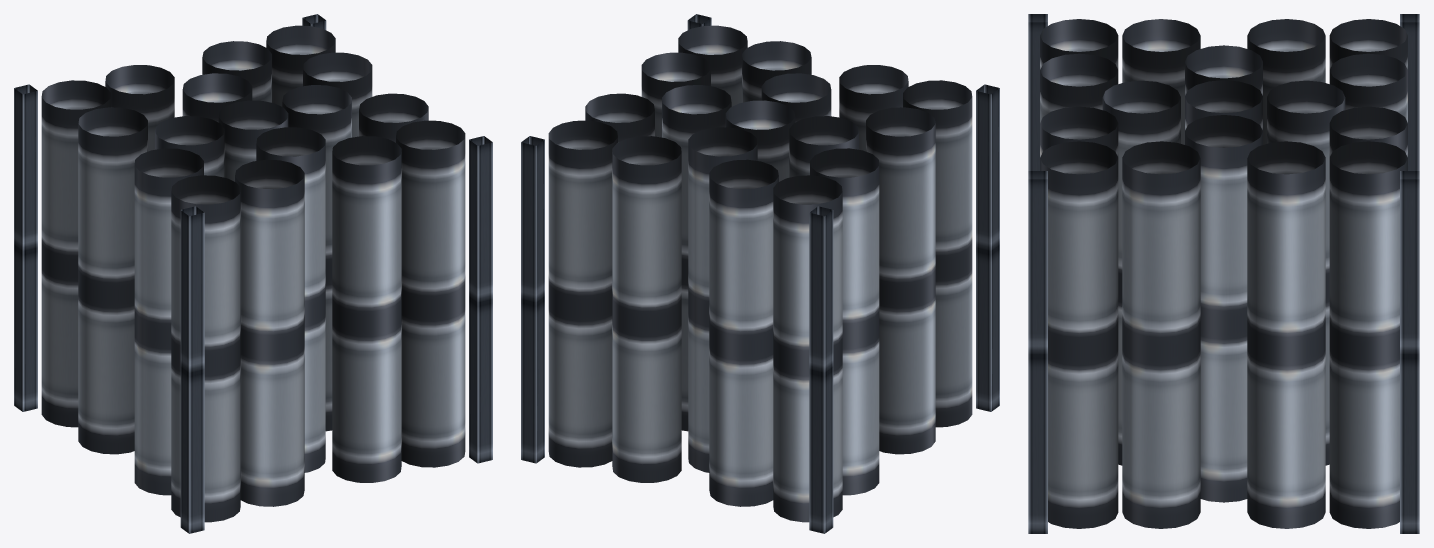
The model's file is suz_frame_middle.obj.
3 renders of one model, left to right at view 1: azimuth 30°, elevation 25°; view 2: azimuth 150°, elevation 25°; view 3: azimuth 270°, elevation 25°, orthographic. The views are drawn at different scales.
Parts seen in each view (by area): view 1: suz_frame_mid; view 2: suz_frame_mid; view 3: suz_frame_mid.
Boxes of the visible parts, x1=… form: suz_frame_mid: x1=14, y1=14, x2=492, y2=533; suz_frame_mid: x1=521, y1=14, x2=999, y2=533; suz_frame_mid: x1=1028, y1=14, x2=1419, y2=533.
Bounding box in the file's own units: 1 × 1 × 1.
